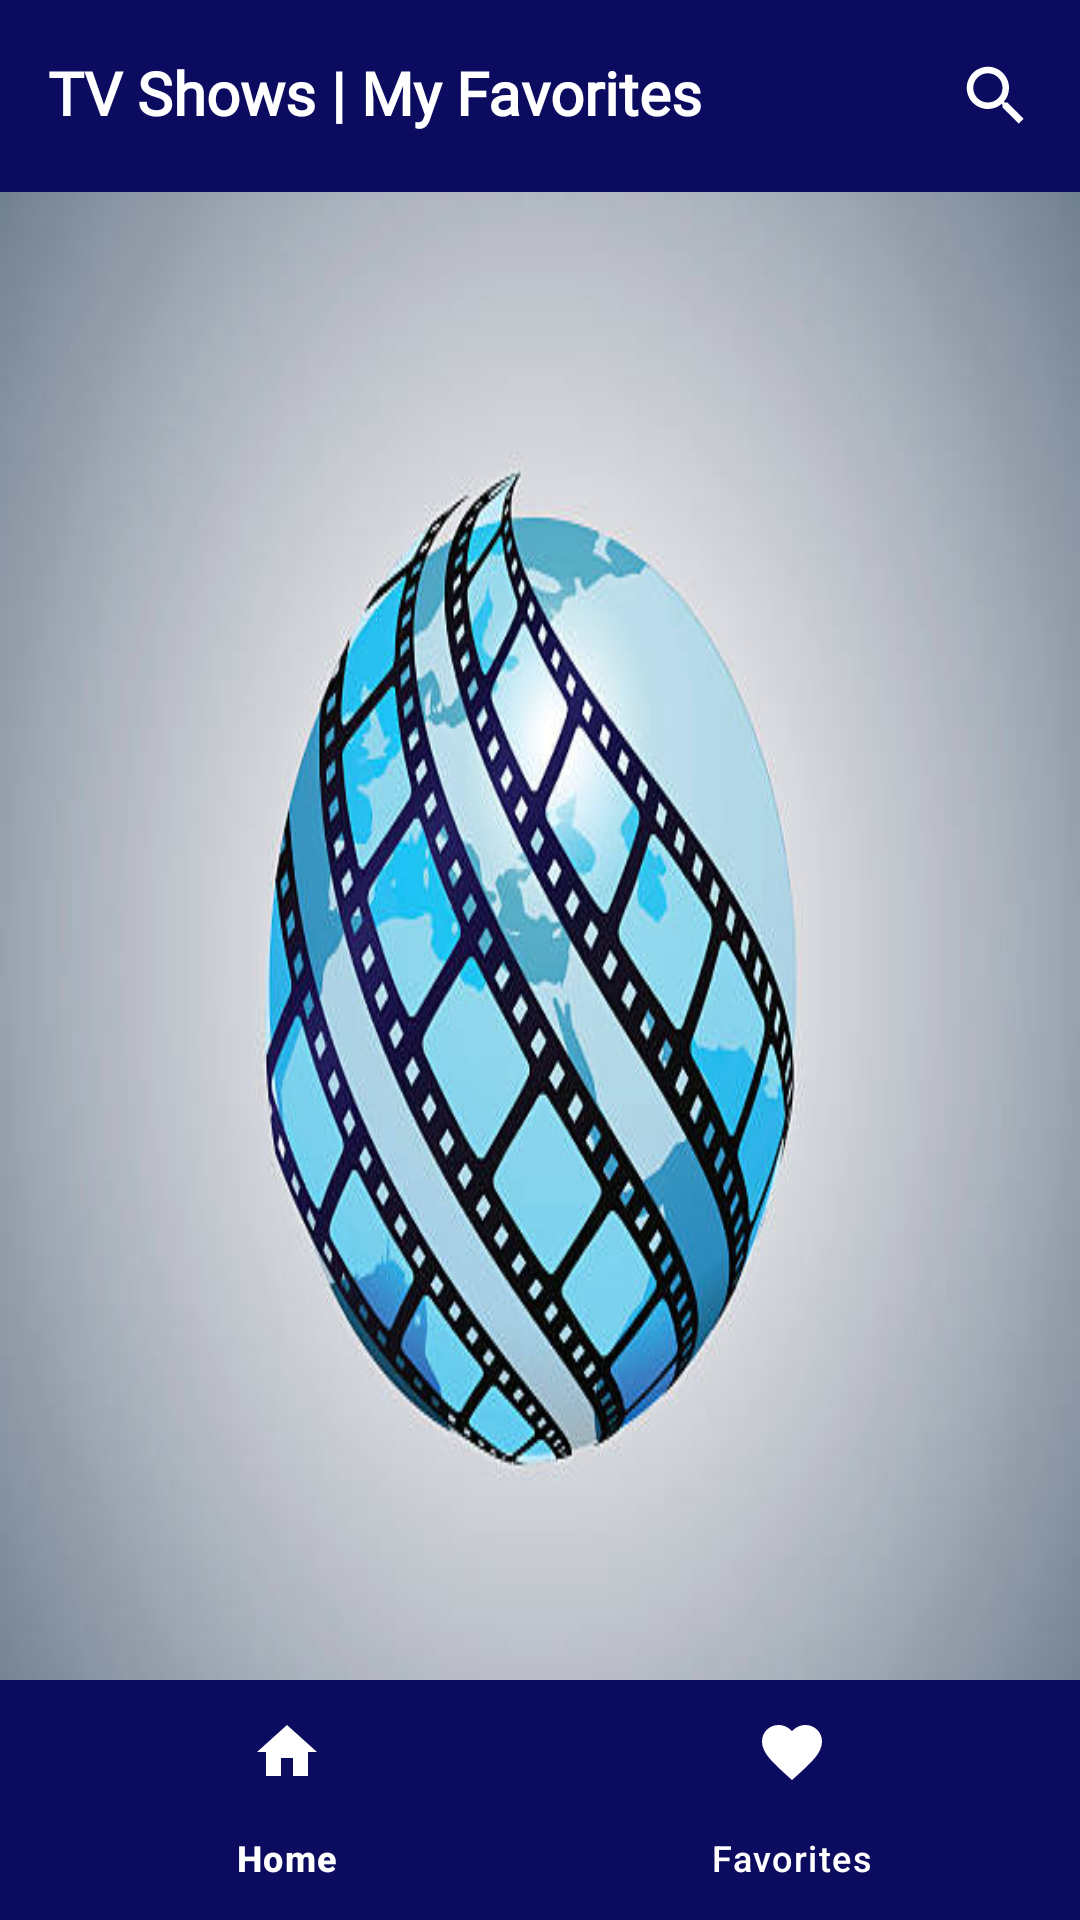

Where icons sit on this 1080x1920 app screen, as (x1, y1, x2, y2):
search: (966, 66, 1024, 124)
